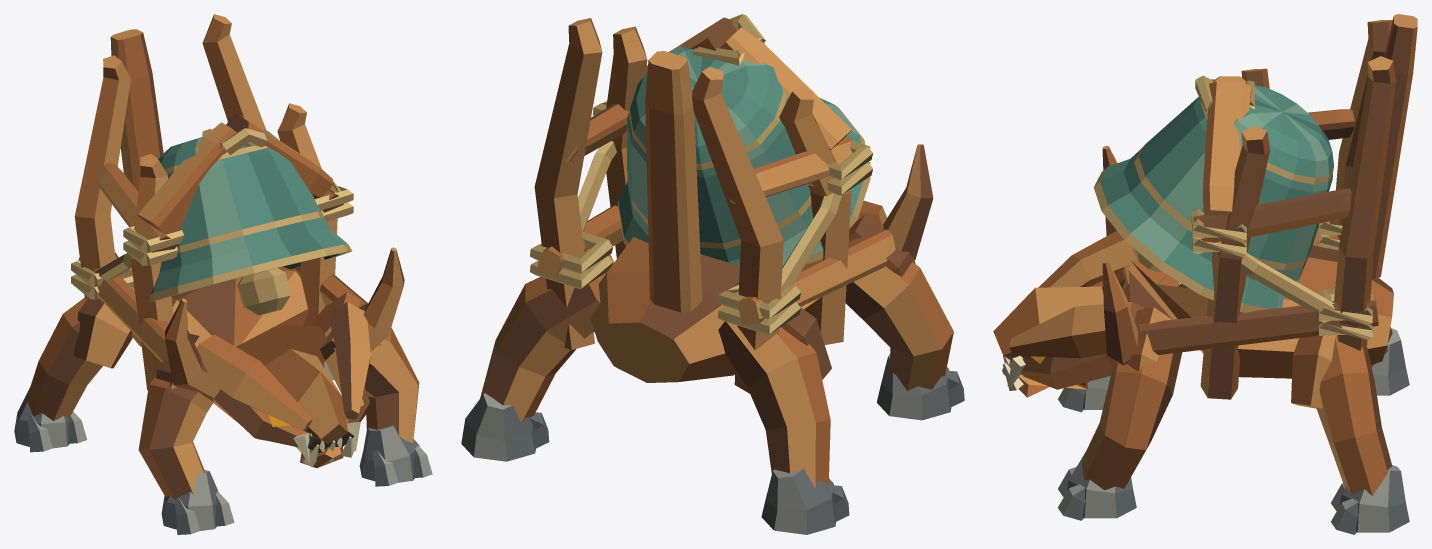
The model's file is bellback-study-v3.glb.
3 renders of one model, left to right at view 1: azimuth 30°, elevation 25°; view 2: azimuth 150°, elevation 25°; view 3: azimuth 270°, elevation 25°, orthographic. The views are drawn at different scales.
Visible parts, largest first — view 1: Hollow cast bell, Barrel timber hull, Broken ship rib -1 1, Left fore timber leg, Layered brow timber, Tall stern plank, Right fore timber leg, Left hind timber leg, Pointed central face keel, Arch left, Layered brow timber.001, Broken ship rib -1 0 (+25 smaller); view 2: Hollow cast bell, Barrel timber hull, Tall stern plank, Left hind timber leg, Broken ship rib 1 1, Broken ship rib -1 1, Right hind timber leg, Left fore timber leg, Broken ship rib -1 0, Lower angled rail -1, Left hind stone foot, Right hind stone foot (+19 smaller); view 3: Hollow cast bell, Broken ship rib 1 1, Right fore timber leg, Right hind timber leg, Barrel timber hull, Broken ship rib 1 0, Lower angled rail 1, Arch right, Tall stern plank, Layered brow timber.001, Upper angled rail 1, Pointed central face keel (+20 smaller).
Part boxes in pixels (x1=…): Hollow cast bell: x1=149, y1=129, x2=351, y2=302; Barrel timber hull: x1=132, y1=267, x2=327, y2=365; Broken ship rib -1 1: x1=74, y1=55, x2=130, y2=298; Left fore timber leg: x1=138, y1=376, x2=213, y2=499; Layered brow timber: x1=197, y1=334, x2=312, y2=431; Tall stern plank: x1=110, y1=29, x2=163, y2=191; Right fore timber leg: x1=310, y1=305, x2=419, y2=442; Left hind timber leg: x1=24, y1=298, x2=133, y2=420; Pointed central face keel: x1=265, y1=349, x2=347, y2=443; Arch left: x1=137, y1=122, x2=236, y2=234; Layered brow timber.001: x1=328, y1=302, x2=370, y2=419; Broken ship rib -1 0: x1=130, y1=154, x2=173, y2=390; Hollow cast bell: x1=617, y1=44, x2=870, y2=266; Barrel timber hull: x1=590, y1=237, x2=820, y2=382; Tall stern plank: x1=645, y1=51, x2=702, y2=312; Left hind timber leg: x1=718, y1=321, x2=830, y2=488; Broken ship rib 1 1: x1=534, y1=18, x2=602, y2=349; Broken ship rib -1 1: x1=692, y1=66, x2=783, y2=393; Right hind timber leg: x1=480, y1=277, x2=600, y2=422; Left fore timber leg: x1=845, y1=262, x2=953, y2=391; Broken ship rib -1 0: x1=779, y1=86, x2=851, y2=344; Lower angled rail -1: x1=738, y1=229, x2=895, y2=324; Left hind stone foot: x1=761, y1=469, x2=836, y2=534; Right hind stone foot: x1=461, y1=393, x2=536, y2=461; Hollow cast bell: x1=1093, y1=85, x2=1333, y2=312; Broken ship rib 1 1: x1=1334, y1=56, x2=1396, y2=350; Right fore timber leg: x1=1082, y1=352, x2=1182, y2=490; Right hind timber leg: x1=1316, y1=335, x2=1392, y2=495; Barrel timber hull: x1=1128, y1=245, x2=1393, y2=378; Broken ship rib 1 0: x1=1200, y1=126, x2=1270, y2=399; Lower angled rail 1: x1=1139, y1=300, x2=1378, y2=354; Arch right: x1=1203, y1=81, x2=1251, y2=215; Tall stern plank: x1=1372, y1=14, x2=1417, y2=278; Layered brow timber.001: x1=1009, y1=302, x2=1143, y2=358; Upper angled rail 1: x1=1193, y1=188, x2=1351, y2=242; Pointed central face keel: x1=993, y1=286, x2=1103, y2=359.
Bounding box in the file's own units: 3.19 × 3.79 × 3.44.
